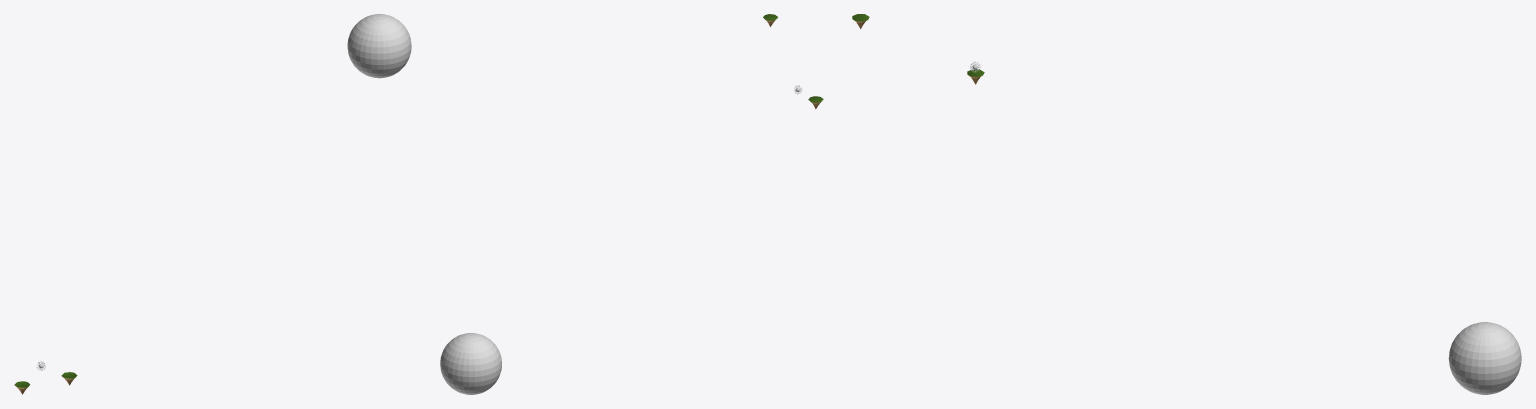
Rendered from login.glb.
3 renders of one model, left to right at view 1: azimuth 30°, elevation 25°; view 2: azimuth 210°, elevation 25°; view 3: azimuth 270°, elevation 25°, orthographic. The views are drawn at different scales.
Visible parts, largest first — view 1: Sphere; view 2: Sphere; view 3: Sphere.
Part boxes in pixels (<box>): Sphere: <box>347,14,411,78</box>; Sphere: <box>440,333,501,394</box>; Sphere: <box>1448,322,1521,394</box>.
Size of the model in its own units: 243 by 26.89 by 200.
Materials: 1 (1 with a texture image).
